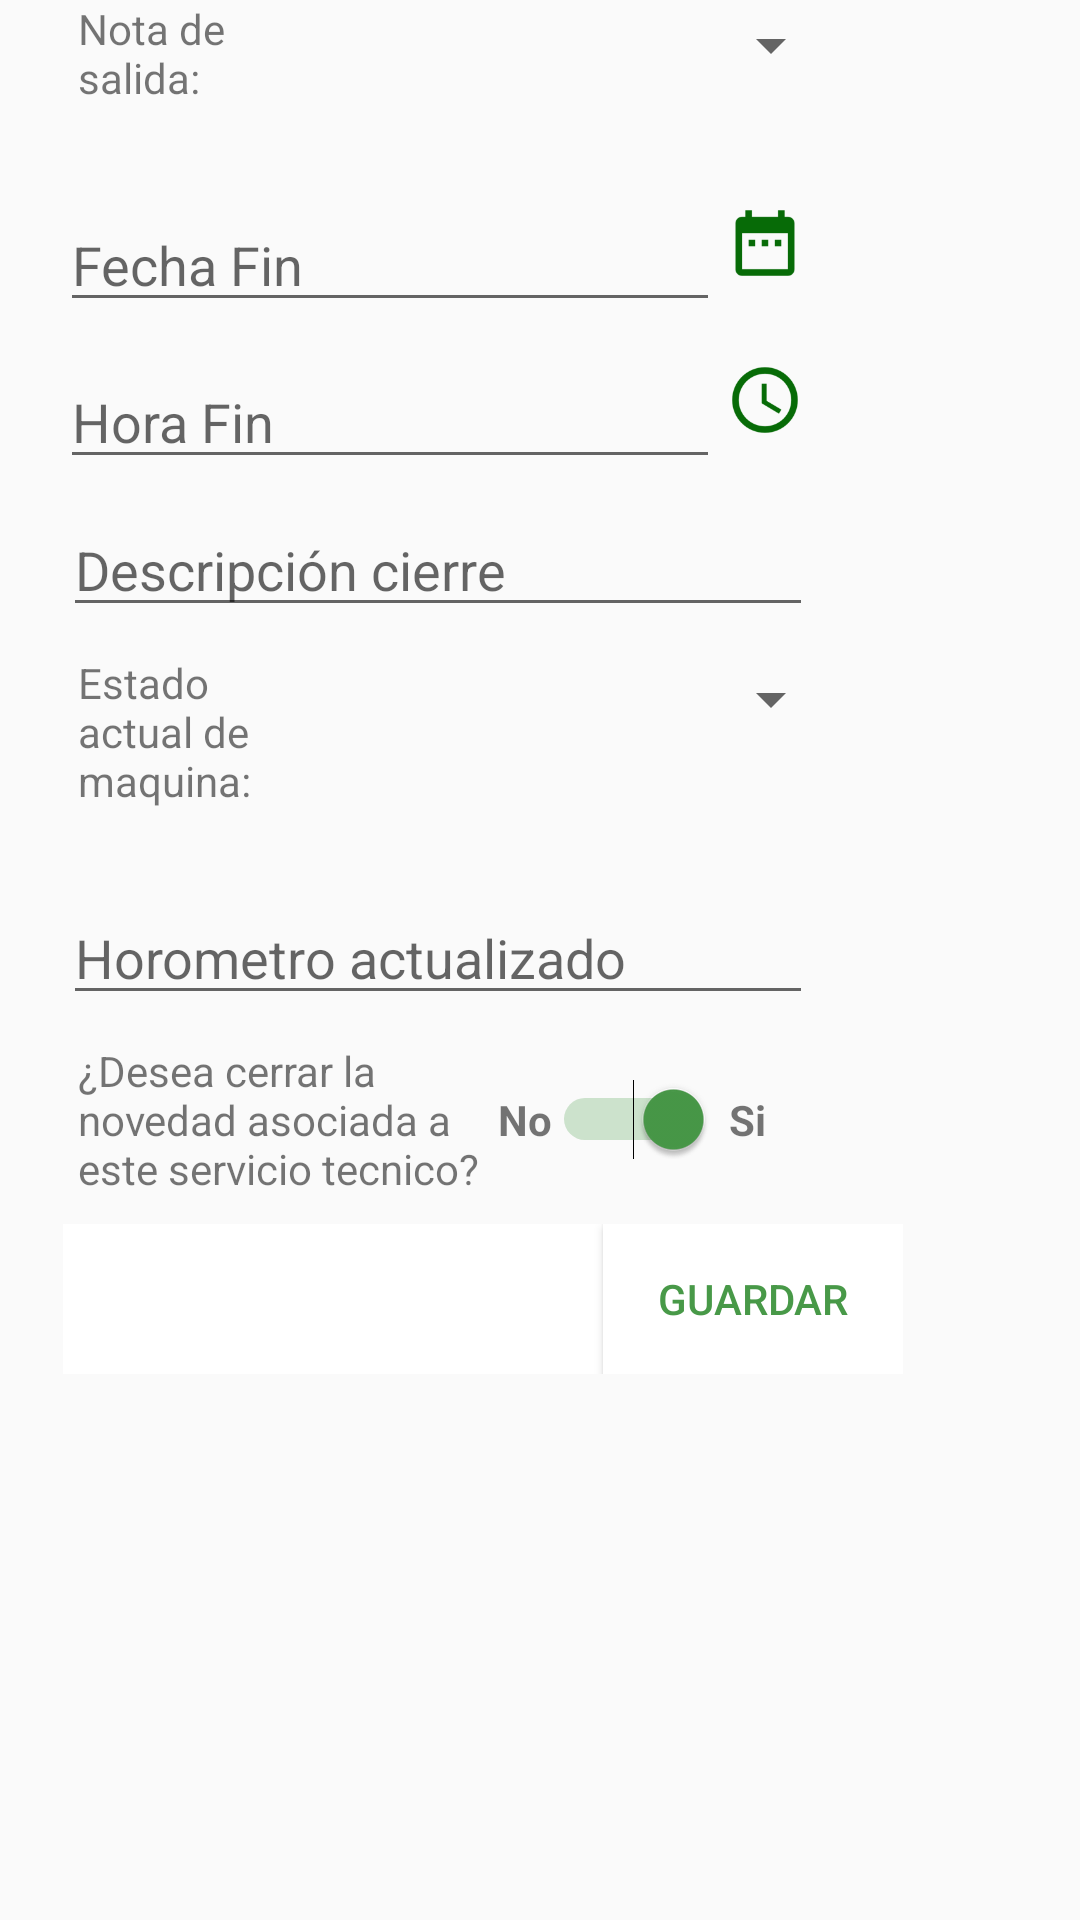

Locate icon controls on the screen. Image size 1080 × 1920, boxes as [x1, y1, x2, y2].
date: [735, 210, 795, 276]
time: [732, 367, 798, 433]
